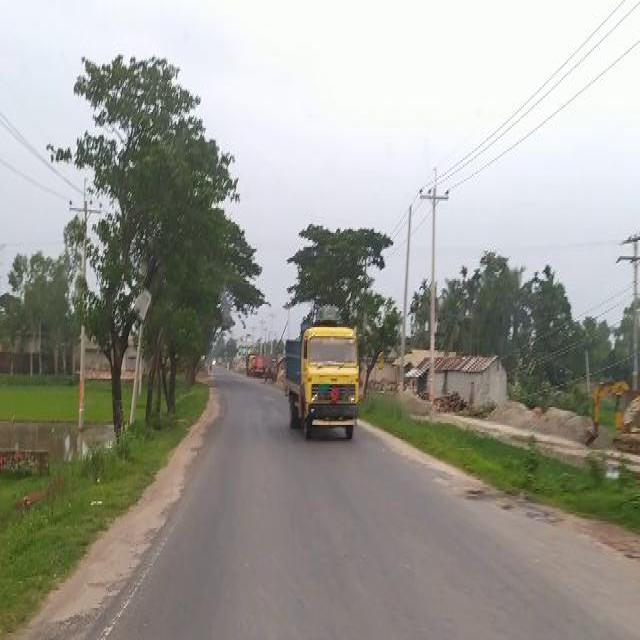truck: (280, 302, 362, 444)
